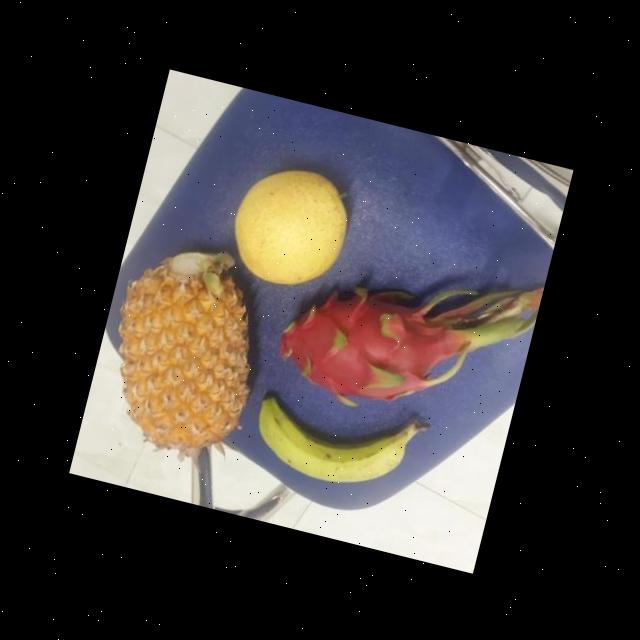banana: (238, 376, 420, 494)
pear: (219, 153, 367, 300)
pineapple: (92, 238, 274, 457)
pitaya: (260, 272, 467, 425)
